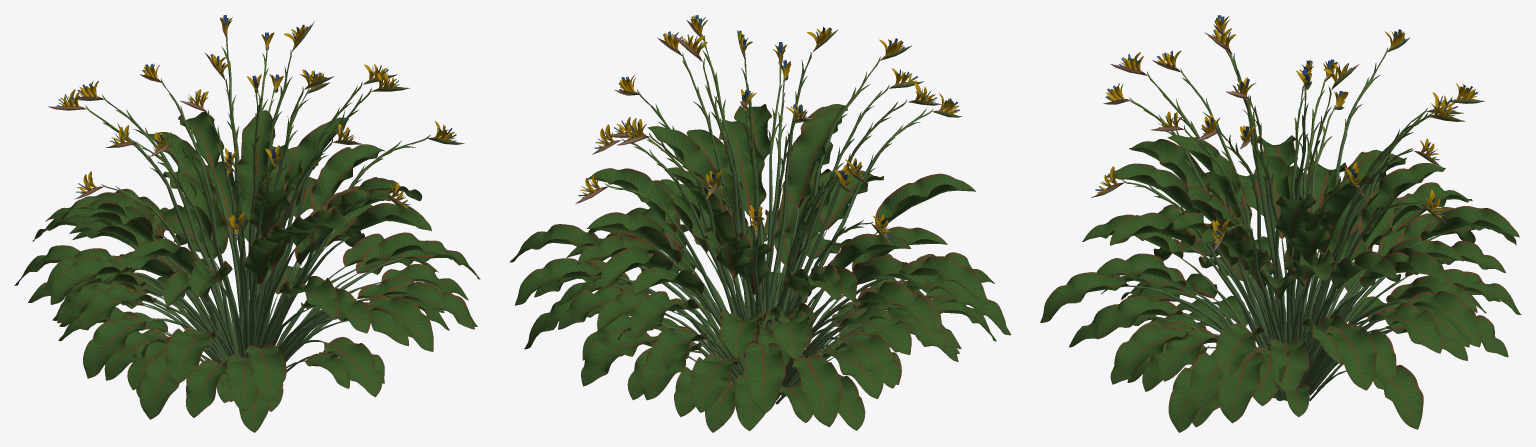
Rendered from strelitzia.gltf.
3 renders of one model, left to right at view 1: azimuth 30°, elevation 25°; view 2: azimuth 150°, elevation 25°; view 3: azimuth 270°, elevation 25°, orthographic. The views are drawn at different scales.
Parts seen in each view (by area): view 1: Strelitzia_r__A001; view 2: Strelitzia_r__A001; view 3: Strelitzia_r__A001.
Boxes of the visible parts, left/top/right/bottom form: Strelitzia_r__A001: left=14, top=15, right=480, bottom=432; Strelitzia_r__A001: left=509, top=15, right=1010, bottom=432; Strelitzia_r__A001: left=1040, top=15, right=1521, bottom=432.
Size of the model in its own units: 2.32 by 1.8 by 2.23.
6 materials, 6 textured.
